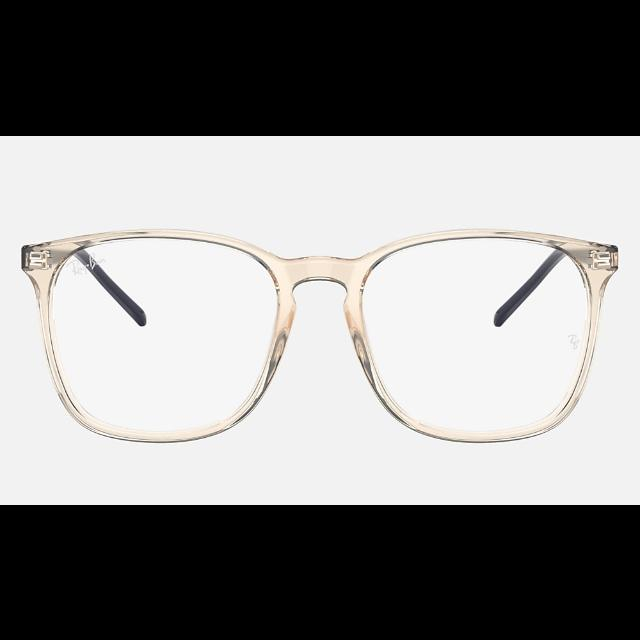glasses: (21, 228, 620, 442)
